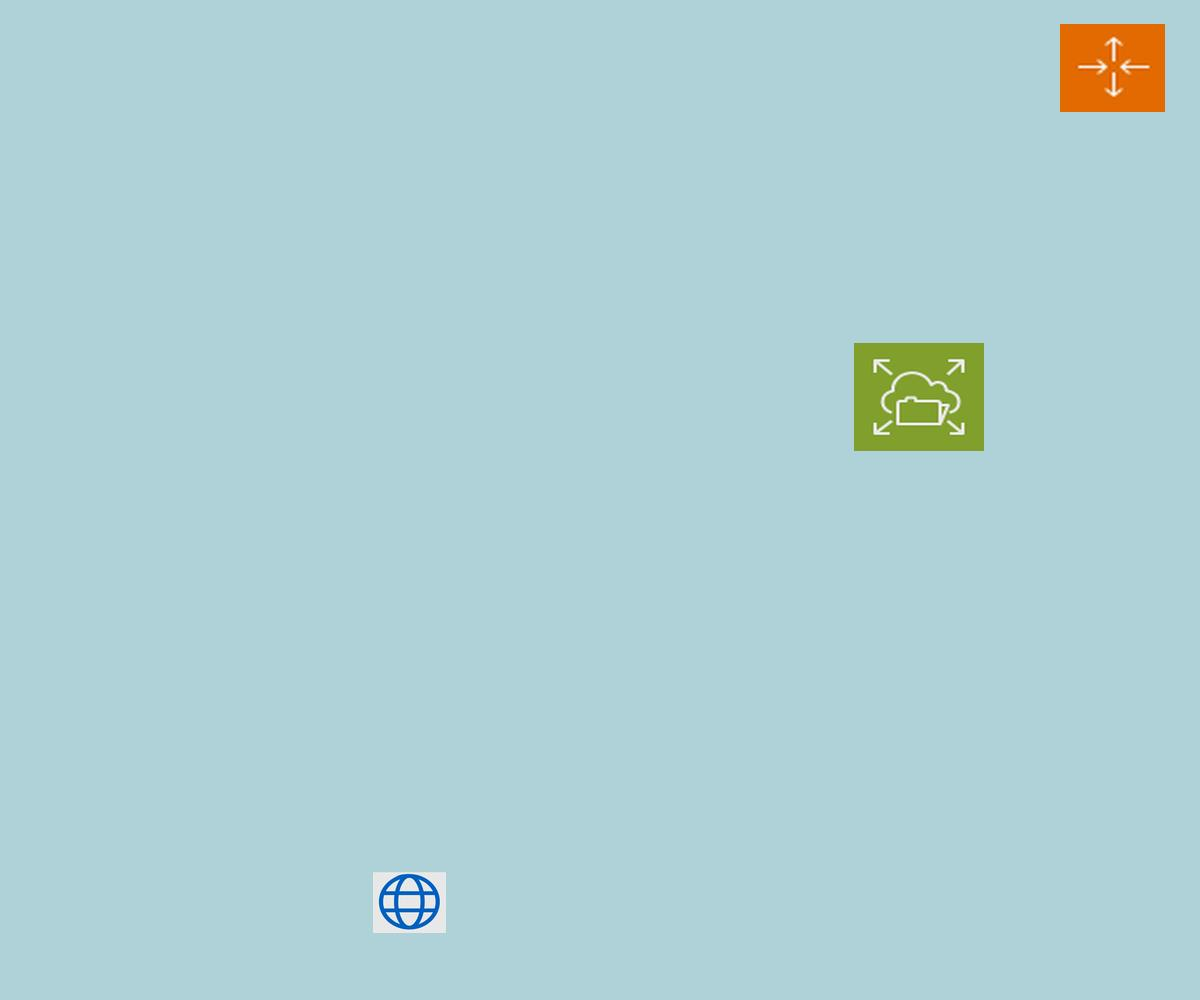AWS-EFS: (854, 343, 984, 451)
AWS-Scaling-group: (1060, 24, 1165, 112)
Azure_http: (373, 872, 446, 933)
